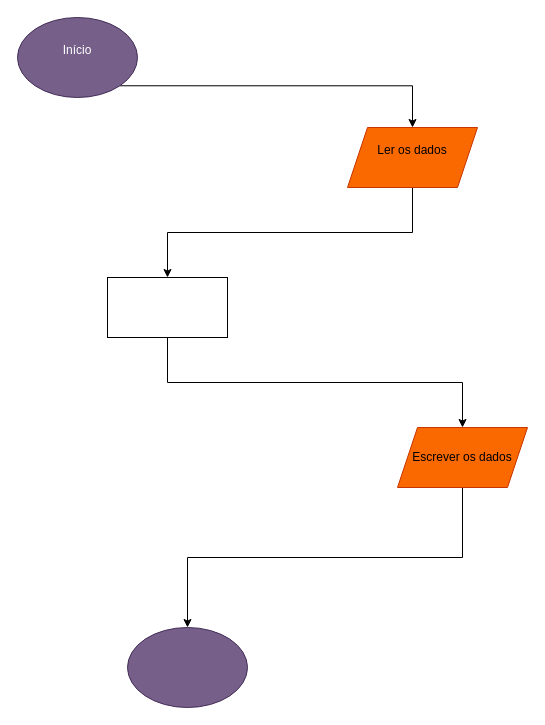
This 545x725 diagram has some shape labels left out. The centre of each missing label's shape, as x and y in pixels:
"Fim" belongs at point (187, 667).
"média = (P1+P2+P3+P4)/4" belongs at point (167, 307).
